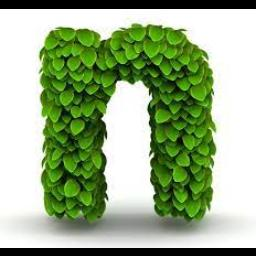n: (34, 20, 220, 226)
